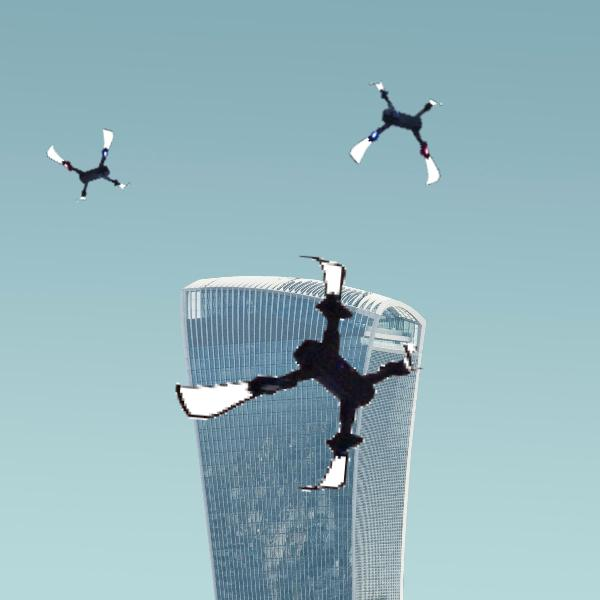drone: (170, 246, 430, 506), (349, 81, 454, 186), (52, 128, 131, 207)
